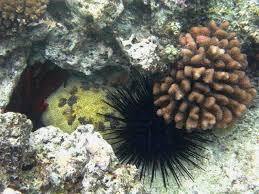urchin: (94, 72, 213, 187)
